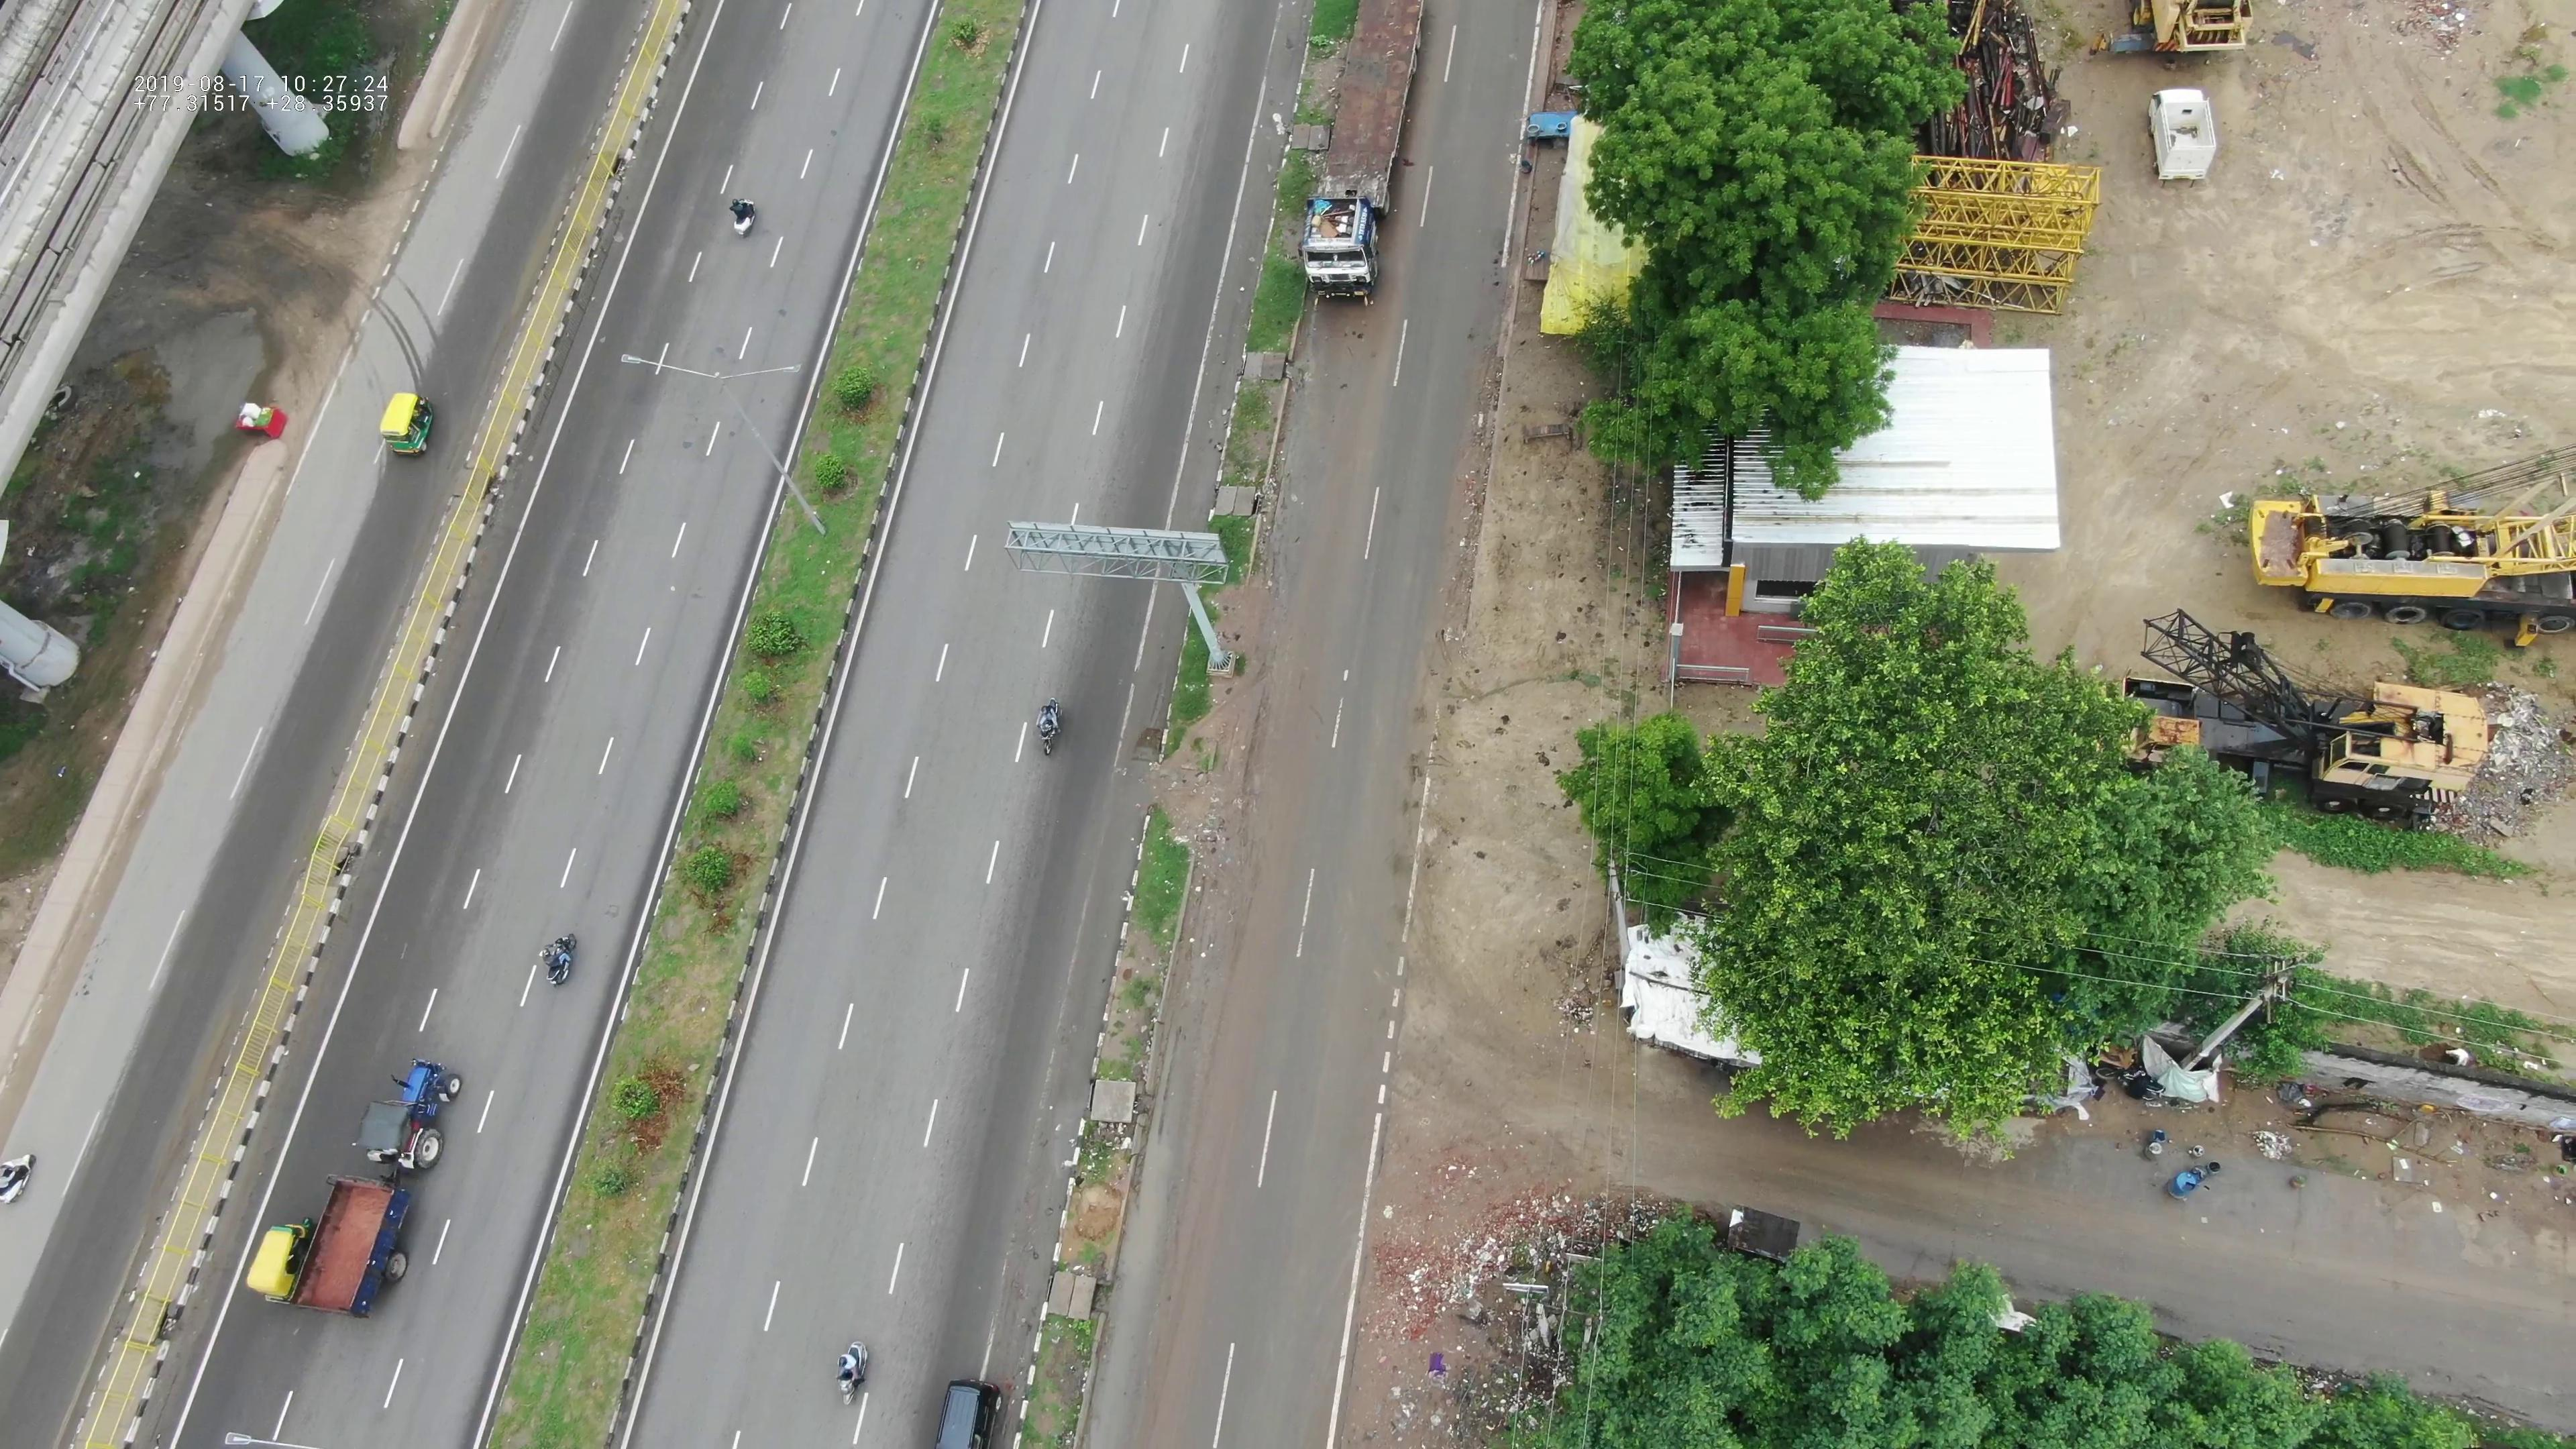Muddy_road: (1180, 690, 1297, 1023)
Road_side_garbage: (1380, 1219, 1573, 1414)
